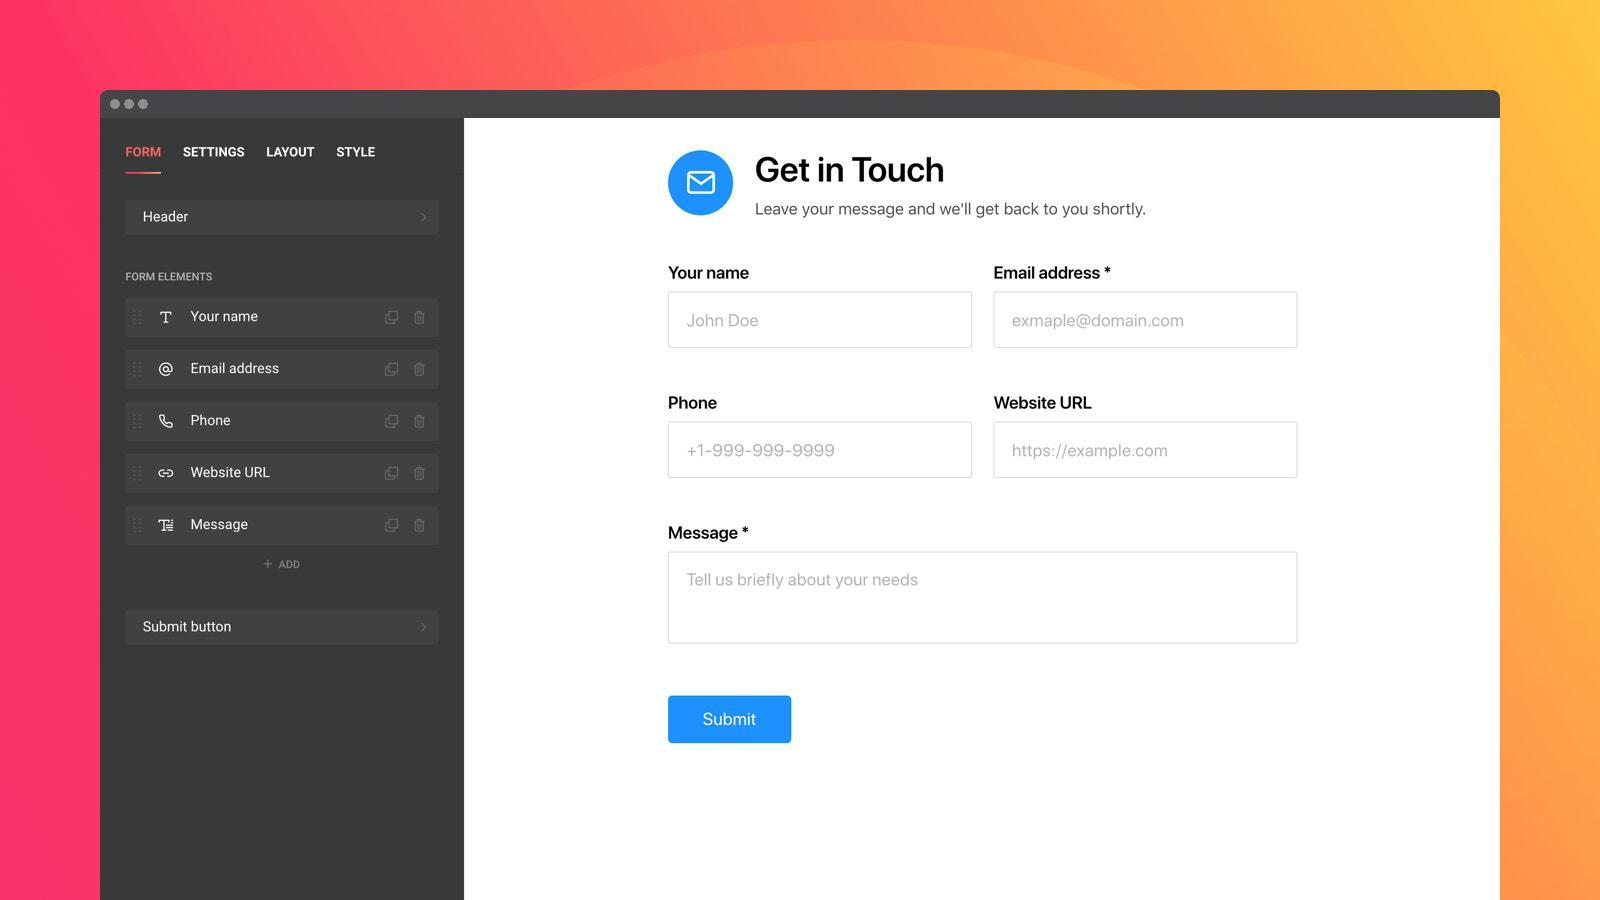icon: (384, 412, 405, 437), (381, 358, 402, 384), (409, 359, 431, 382), (384, 308, 404, 330), (384, 464, 402, 486), (412, 309, 431, 330), (384, 516, 401, 538), (411, 413, 429, 433), (412, 466, 430, 486), (413, 516, 429, 538)
input: (666, 549, 1300, 646), (667, 418, 977, 482), (666, 290, 976, 352), (992, 420, 1301, 481), (993, 290, 1300, 352), (667, 697, 791, 747)
label: (747, 152, 948, 184), (995, 265, 1113, 282), (666, 520, 749, 544), (995, 393, 1095, 411), (668, 263, 749, 284), (666, 395, 719, 413)
